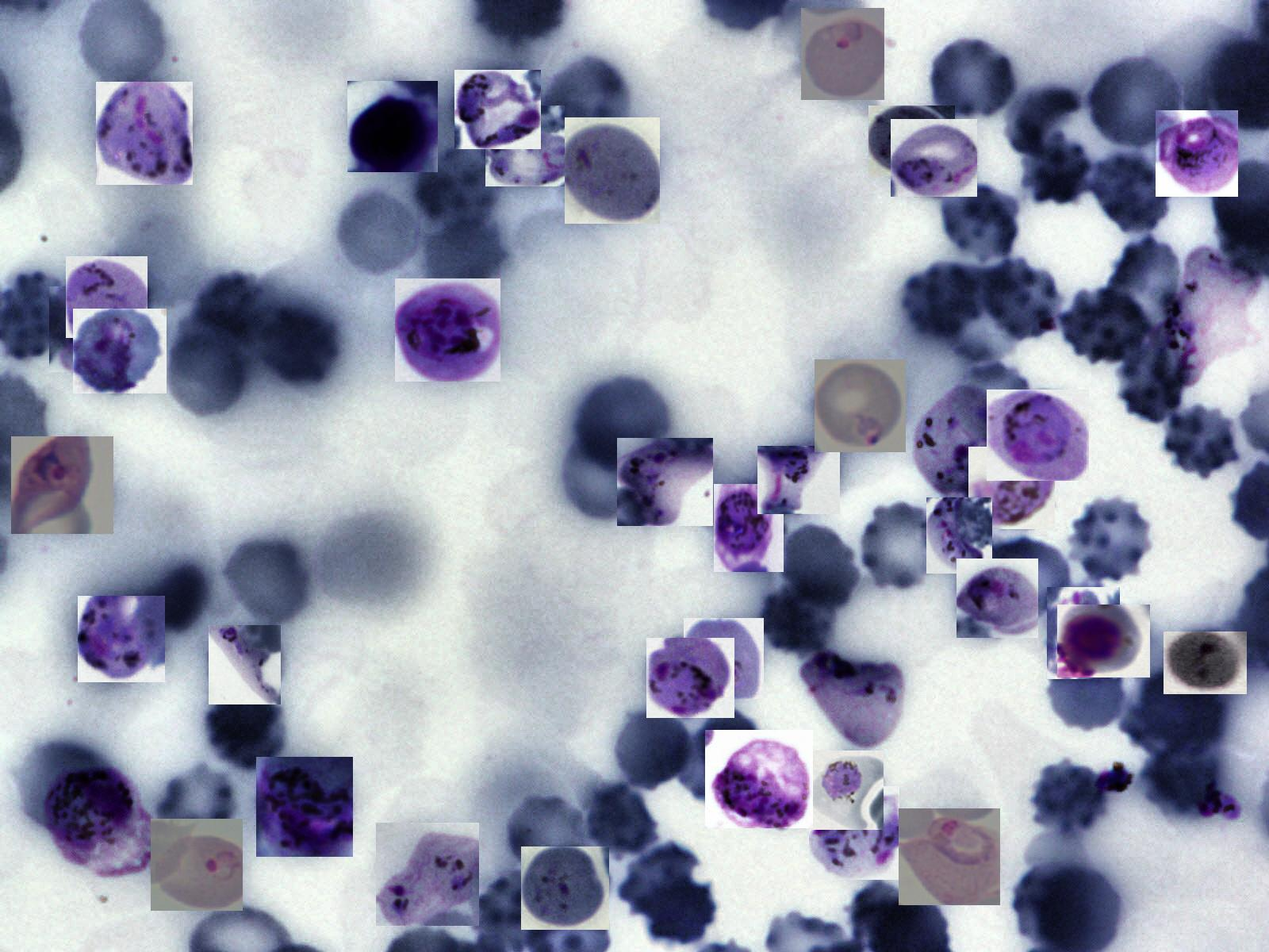Infected: (1164, 249, 1262, 387), (43, 766, 151, 881), (802, 648, 908, 752), (395, 278, 500, 382), (376, 823, 479, 926), (916, 387, 1010, 499), (706, 730, 813, 828), (565, 117, 660, 224), (11, 436, 113, 534), (96, 82, 193, 185), (899, 808, 1000, 905), (256, 757, 353, 857), (987, 390, 1089, 481), (151, 819, 243, 911), (815, 359, 906, 452), (809, 786, 899, 880), (617, 438, 713, 526), (347, 81, 438, 172), (73, 309, 167, 393), (801, 8, 884, 100), (78, 596, 165, 682), (521, 846, 609, 930), (1156, 110, 1238, 197), (968, 447, 1055, 529), (646, 638, 734, 718), (454, 70, 541, 149), (1057, 605, 1150, 678), (66, 256, 148, 338), (1047, 587, 1120, 679), (891, 119, 977, 197), (49, 286, 127, 372), (684, 618, 764, 699), (485, 106, 565, 186), (957, 559, 1038, 638), (806, 750, 884, 830), (714, 484, 784, 572), (868, 106, 955, 176), (209, 625, 281, 704), (758, 446, 840, 514), (1164, 631, 1247, 694), (926, 497, 992, 574)
Uninfected: (570, 374, 668, 473), (688, 708, 779, 814), (1121, 670, 1230, 758), (1087, 55, 1184, 150), (560, 426, 654, 523), (220, 533, 311, 631), (332, 186, 424, 281), (858, 499, 942, 598), (201, 681, 291, 772), (926, 35, 1019, 122), (1067, 496, 1158, 584), (777, 520, 861, 612), (543, 56, 630, 144), (1109, 236, 1187, 332), (608, 706, 694, 793), (1045, 645, 1129, 734), (508, 795, 594, 881), (1060, 285, 1150, 367), (1090, 148, 1174, 235), (987, 538, 1074, 620), (416, 144, 500, 228), (156, 764, 237, 848), (419, 217, 512, 290), (164, 336, 244, 419), (983, 258, 1062, 342), (903, 259, 989, 336), (1027, 757, 1108, 837), (618, 842, 700, 918), (258, 305, 336, 383), (933, 192, 1017, 263), (757, 584, 836, 658), (1156, 408, 1240, 477), (591, 780, 664, 859), (1138, 748, 1223, 815), (1117, 340, 1184, 424), (1023, 132, 1098, 205), (194, 273, 271, 343), (639, 879, 718, 945)
